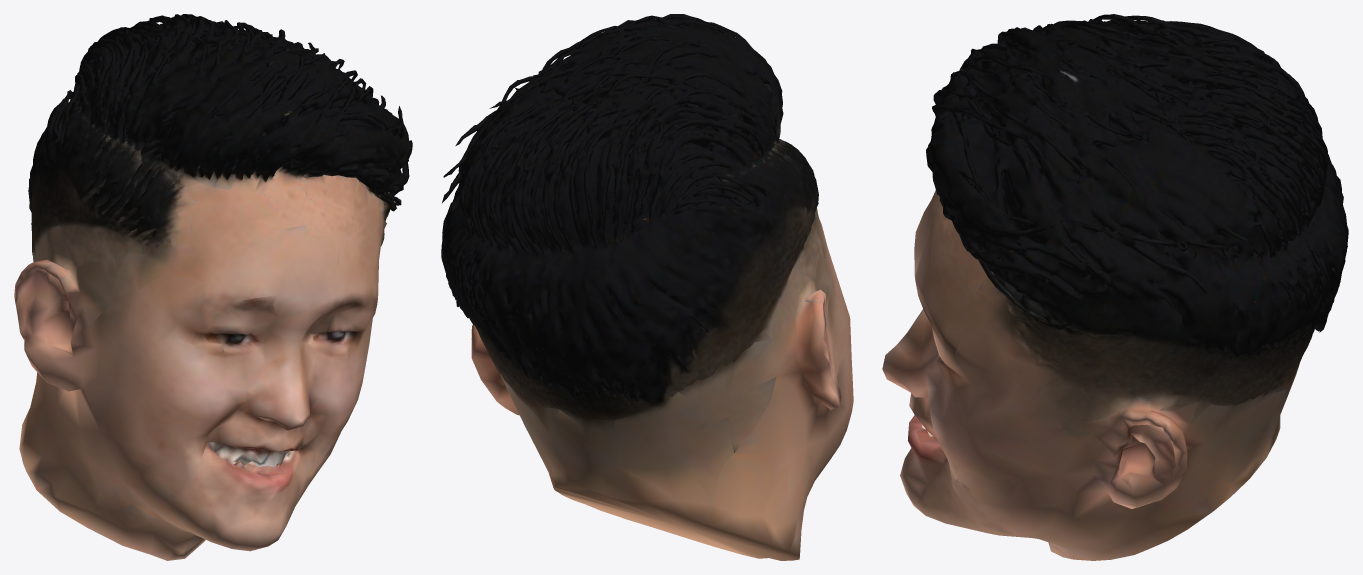
File: head_justin.glb
3 renders of one model, left to right at view 1: azimuth 30°, elevation 25°; view 2: azimuth 150°, elevation 25°; view 3: azimuth 270°, elevation 25°, orthographic. The views are drawn at different scales.
Visible parts, largest first — view 1: Justin; view 2: Justin; view 3: Justin.
Boxes of the visible parts, x1,y1,x2,y2 form: Justin: [14, 14, 412, 560]; Justin: [441, 14, 853, 560]; Justin: [882, 14, 1348, 560].
Bounding box in the file's own units: 0.2083 × 0.2749 × 0.2106.
Materials: 1 (1 with a texture image).
